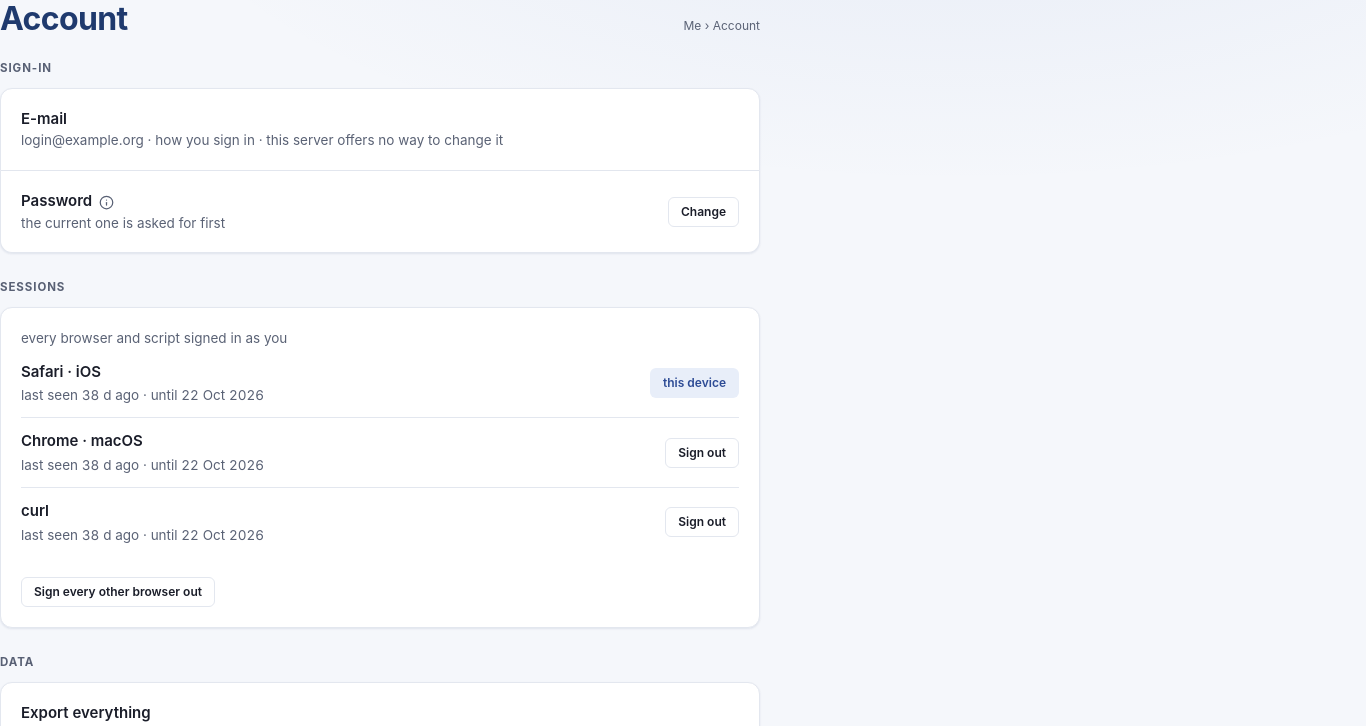
Test case: where this person is signed in › asks before the sweep, ends nothing while it asks, and says what it will do
This screenshot has width=1366, height=726.
Check: the text "login@example.org" is shown, box [21,132,144,148]
Click the button "Sign every other browser out" at {"x": 118, "y": 592}, box [21,577,215,607]
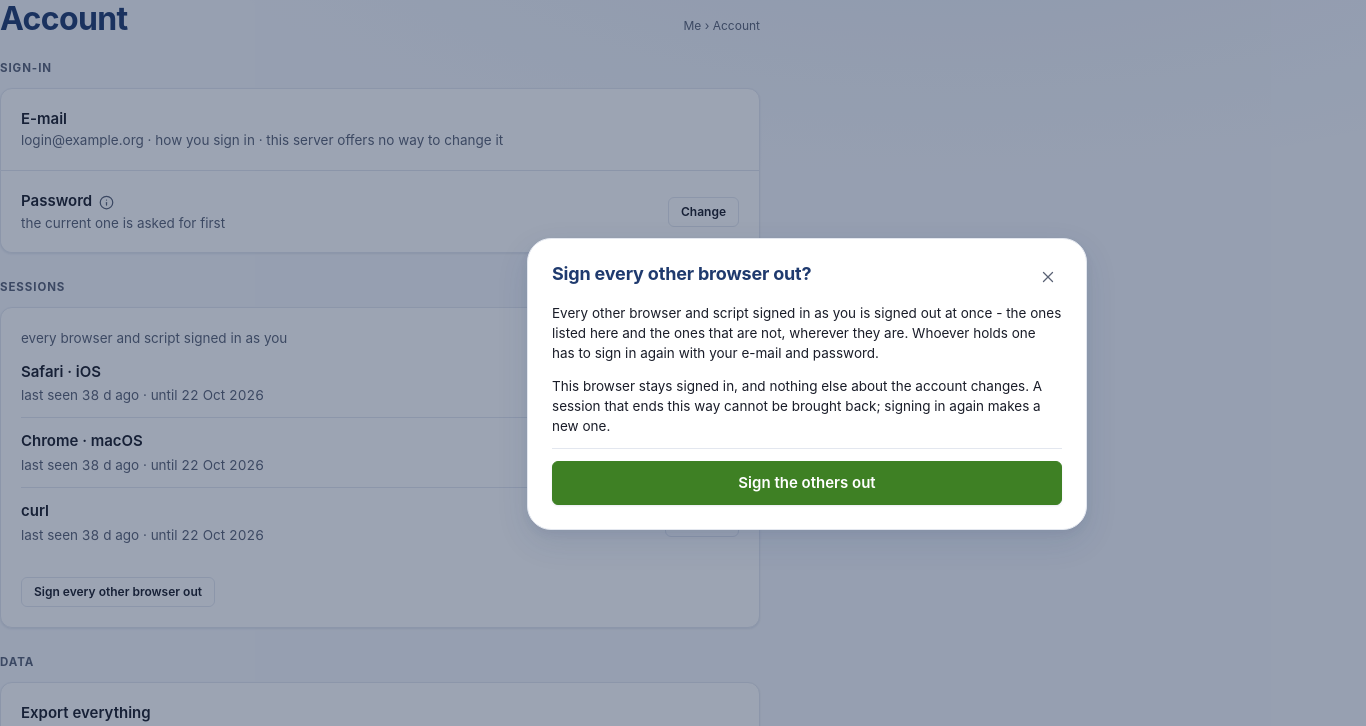
Check: the text "is signed out at once" is shown, box [552,305,1061,361]
Check: the text "cannot be brought back" is shown, box [552,378,1042,434]
